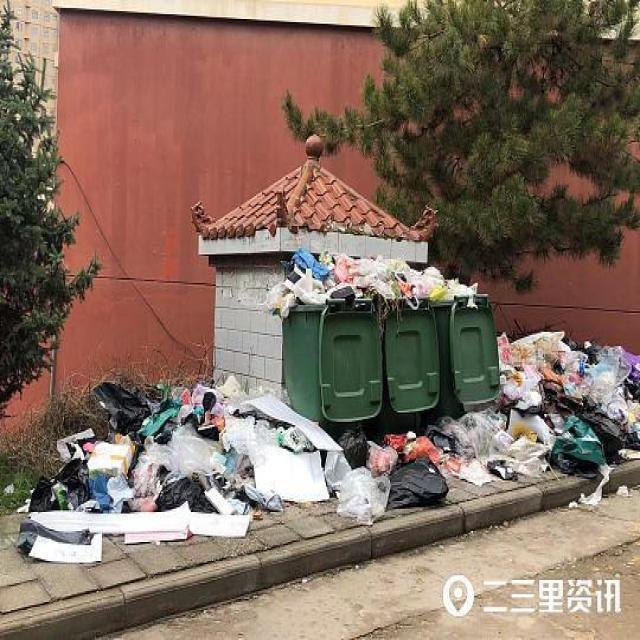garbage: (14, 328, 639, 562)
overflow: (270, 248, 382, 432), (378, 258, 440, 432), (432, 264, 498, 416)
